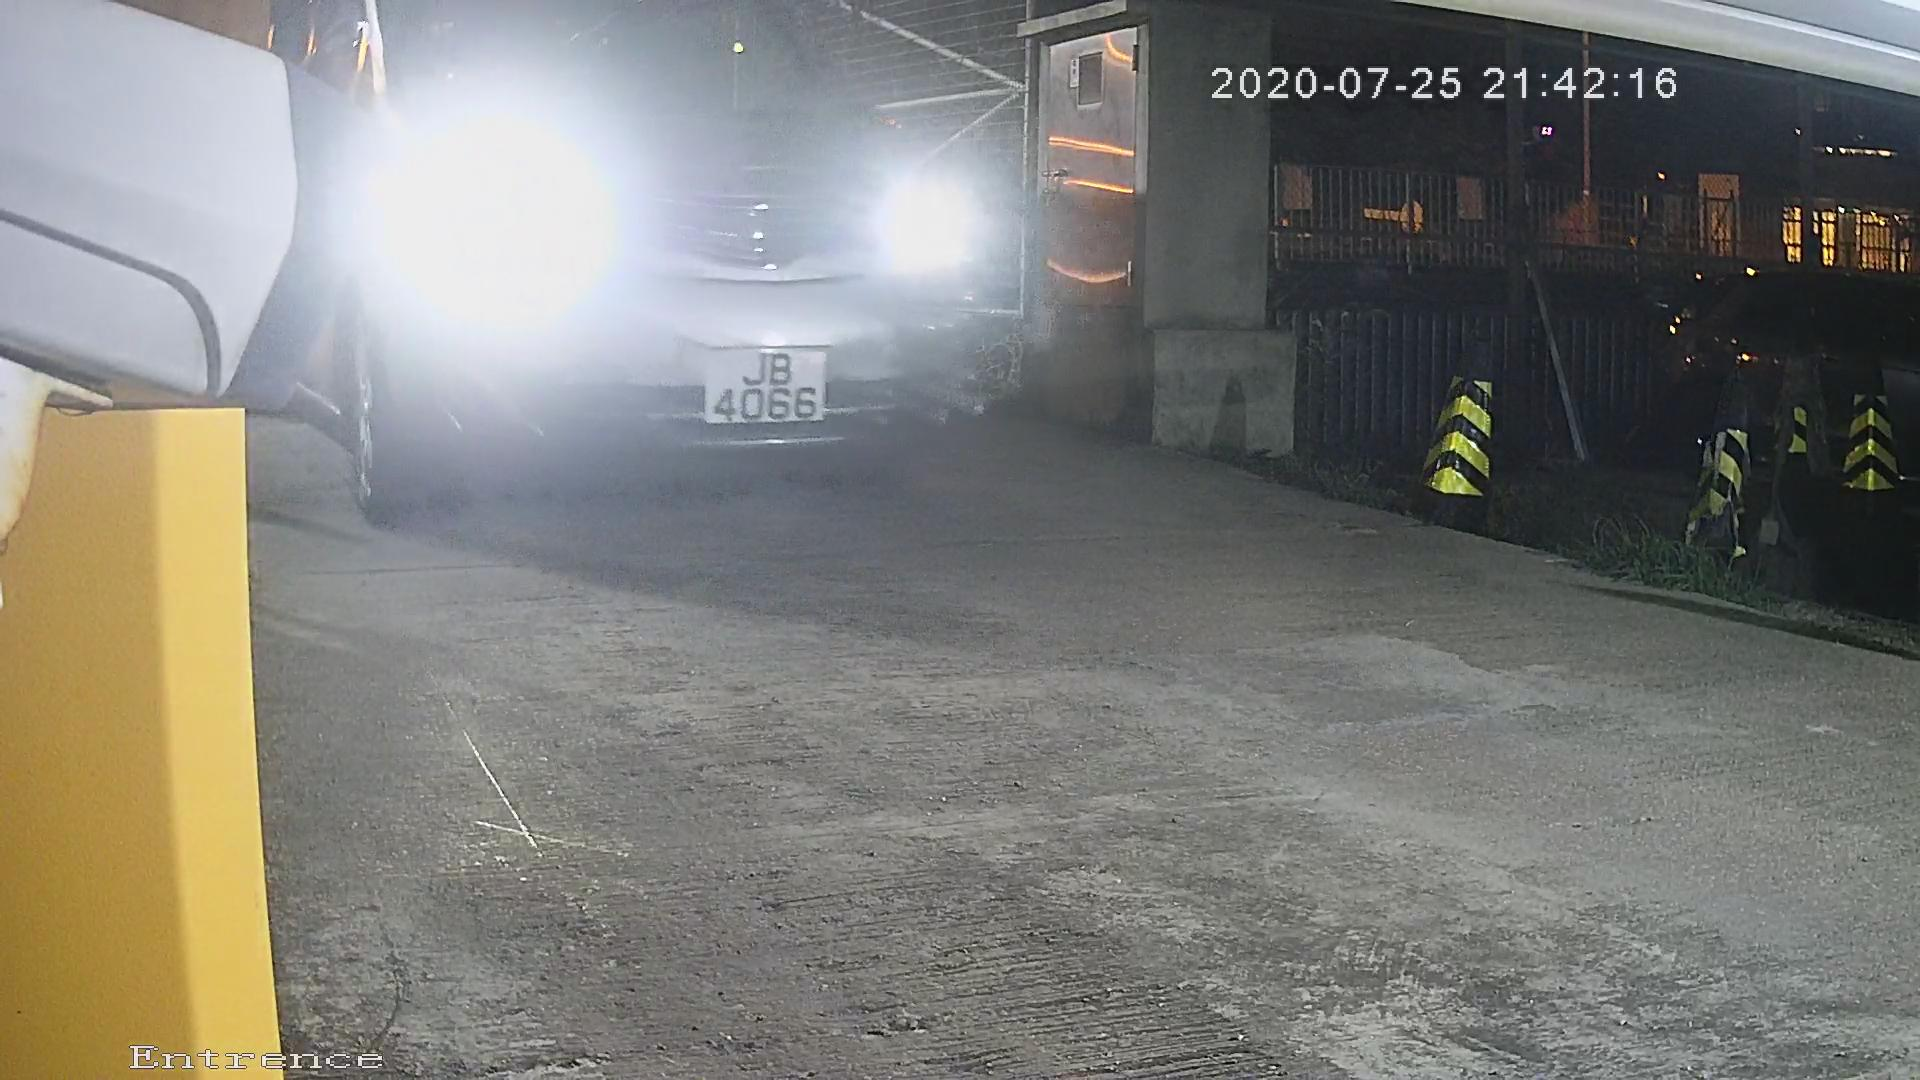License Plate: (667, 325, 860, 451)
